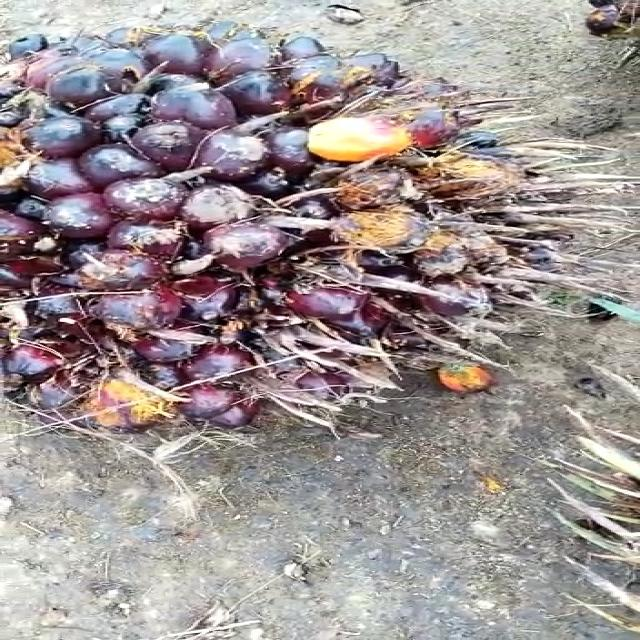palm oil: (0, 12, 582, 451)
